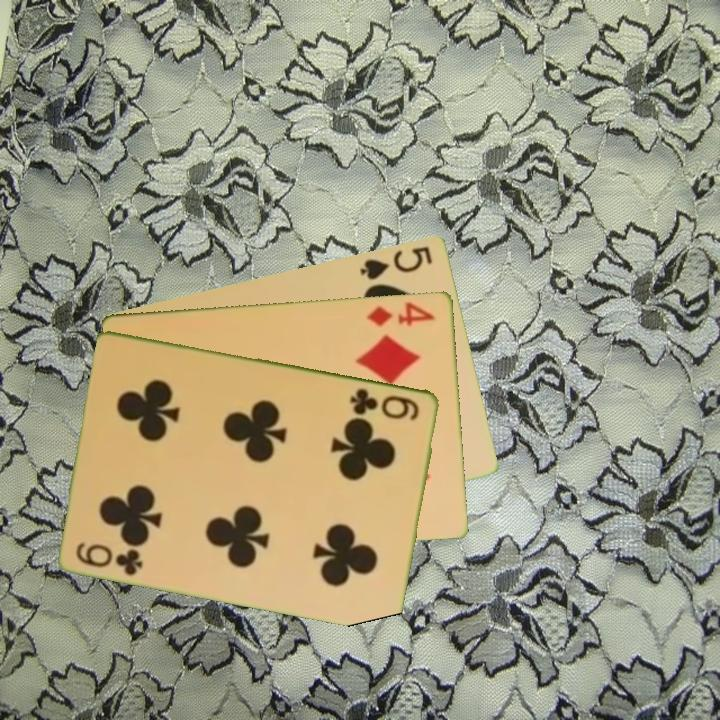4d: (363, 298, 438, 329)
5s: (356, 242, 436, 282)
6c: (346, 384, 423, 423), (72, 539, 147, 578)
